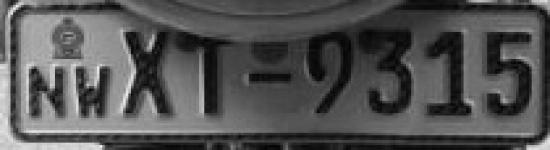-: (244, 70, 298, 89)
1: (424, 25, 475, 122)
3: (361, 27, 416, 116)
5: (484, 28, 536, 120)
9: (306, 26, 358, 116)
N: (20, 60, 70, 120)
W: (73, 63, 113, 118)
X: (115, 27, 175, 118)
